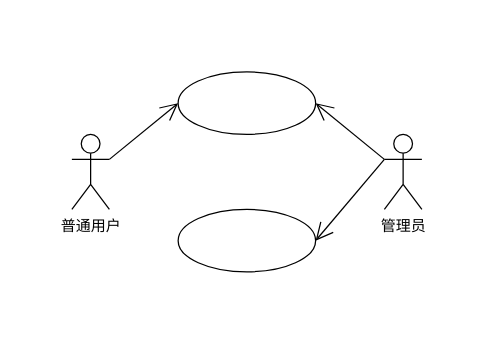
This 493x343 diagram has some shape labels left out. The centre of each missing label's shape, as x and y in pixels:
更新数据: [246,240]
查看数据: [246,102]
